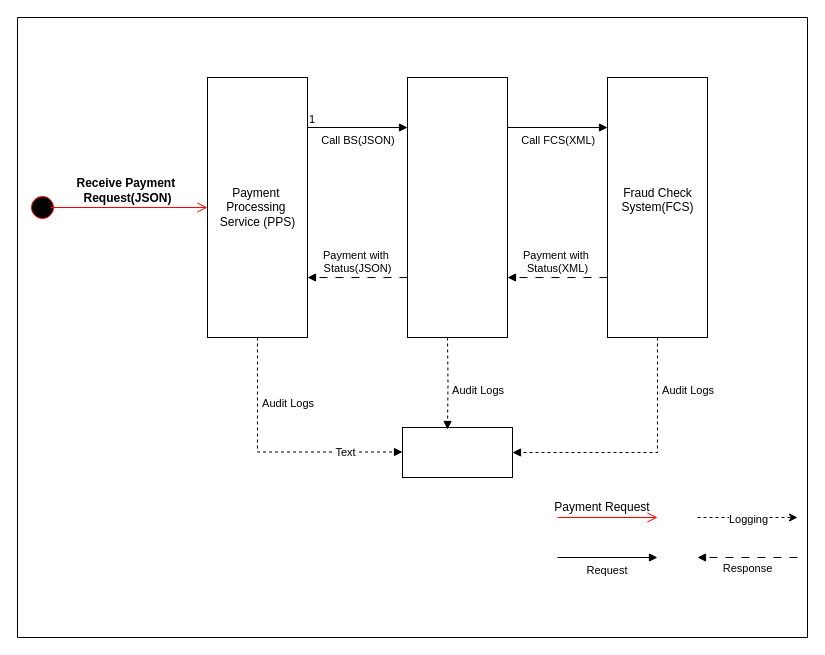
Some shapes in this 825 by 655 pixel diagram are drawn without their labels. The shapes that lost their labels are listed below. From the top down, each one's centre as x and y in pixels, then its label:
point (457, 207): Broker System(BS)
point (457, 452): Log Service
